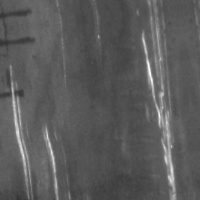inclusion: (0, 26, 40, 64), (0, 81, 28, 104)
scratches: (136, 11, 186, 199), (5, 76, 39, 199), (38, 120, 73, 199)
